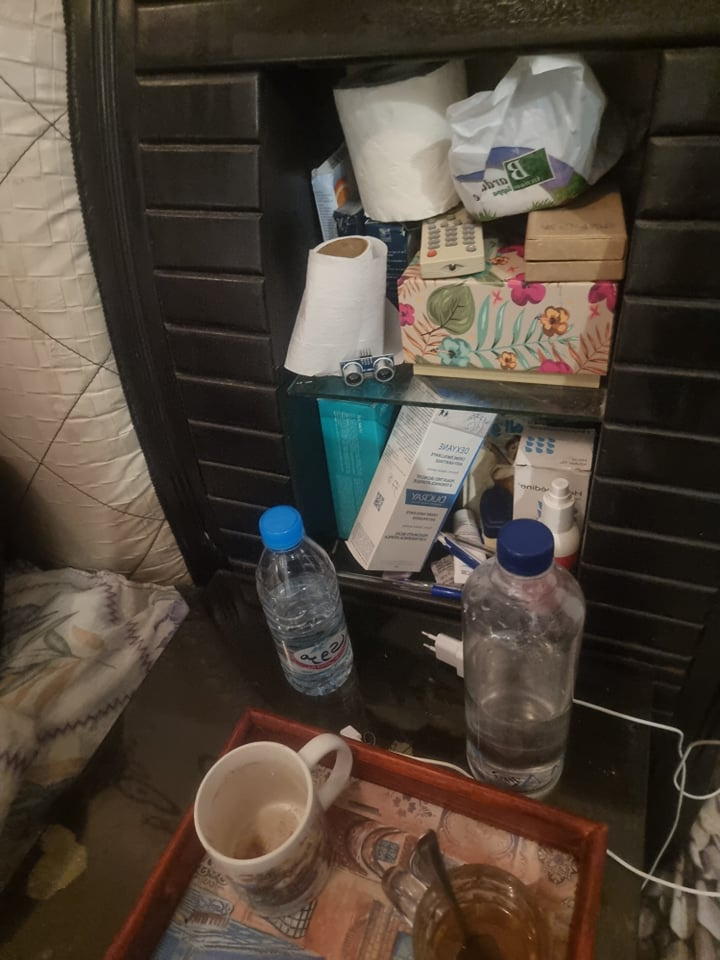SENSOR: (340, 351, 399, 388)
